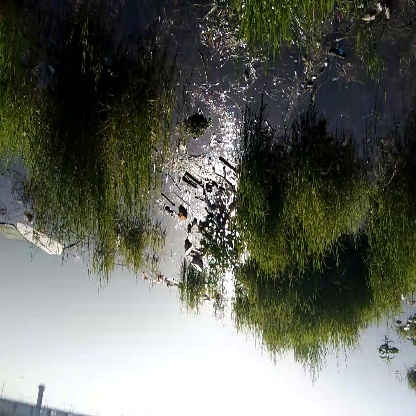plastic-bag: (14, 222, 67, 261)
